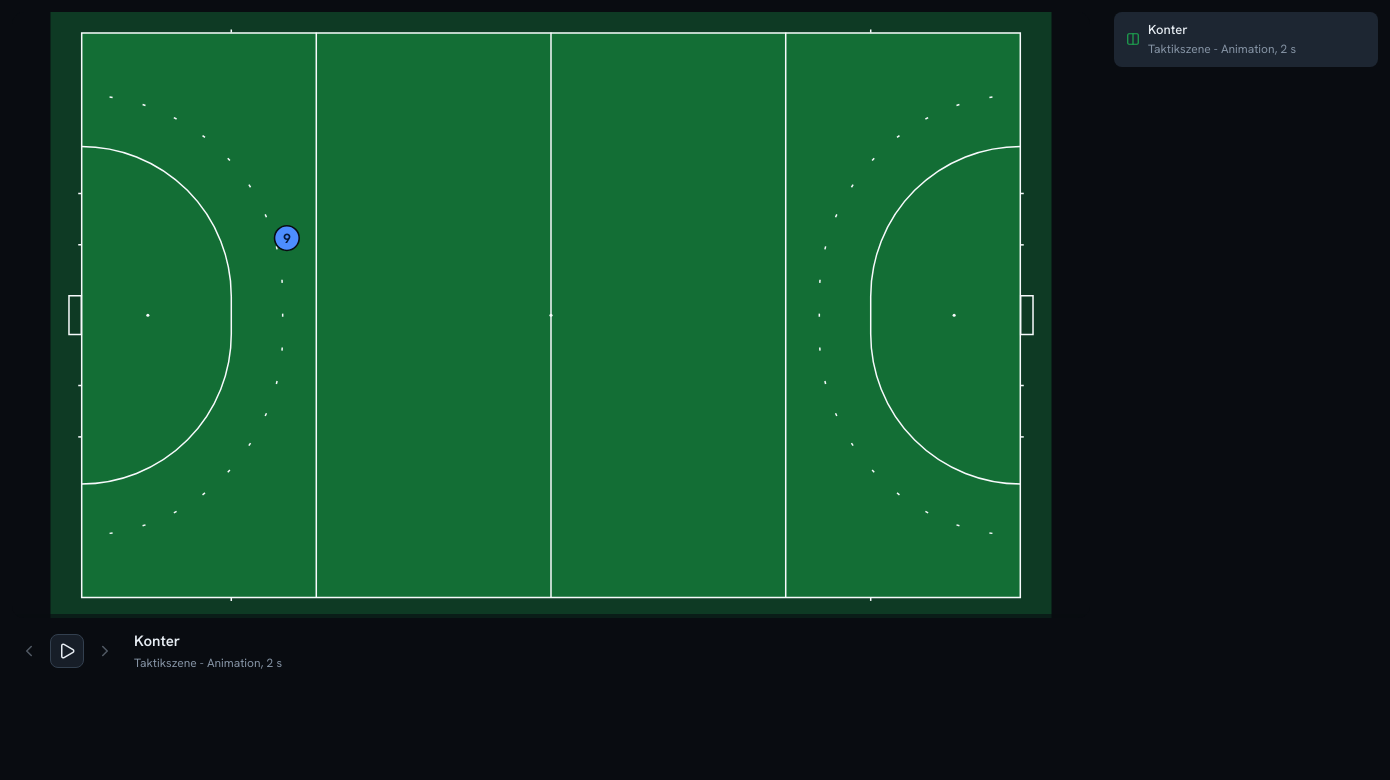
Test case: PlaylistPlayer with a scene entry › holds a still scene for its hold time
Click the button named "Abspielen" at (67, 651), box [50,634,84,668]
Wait 3500 ms
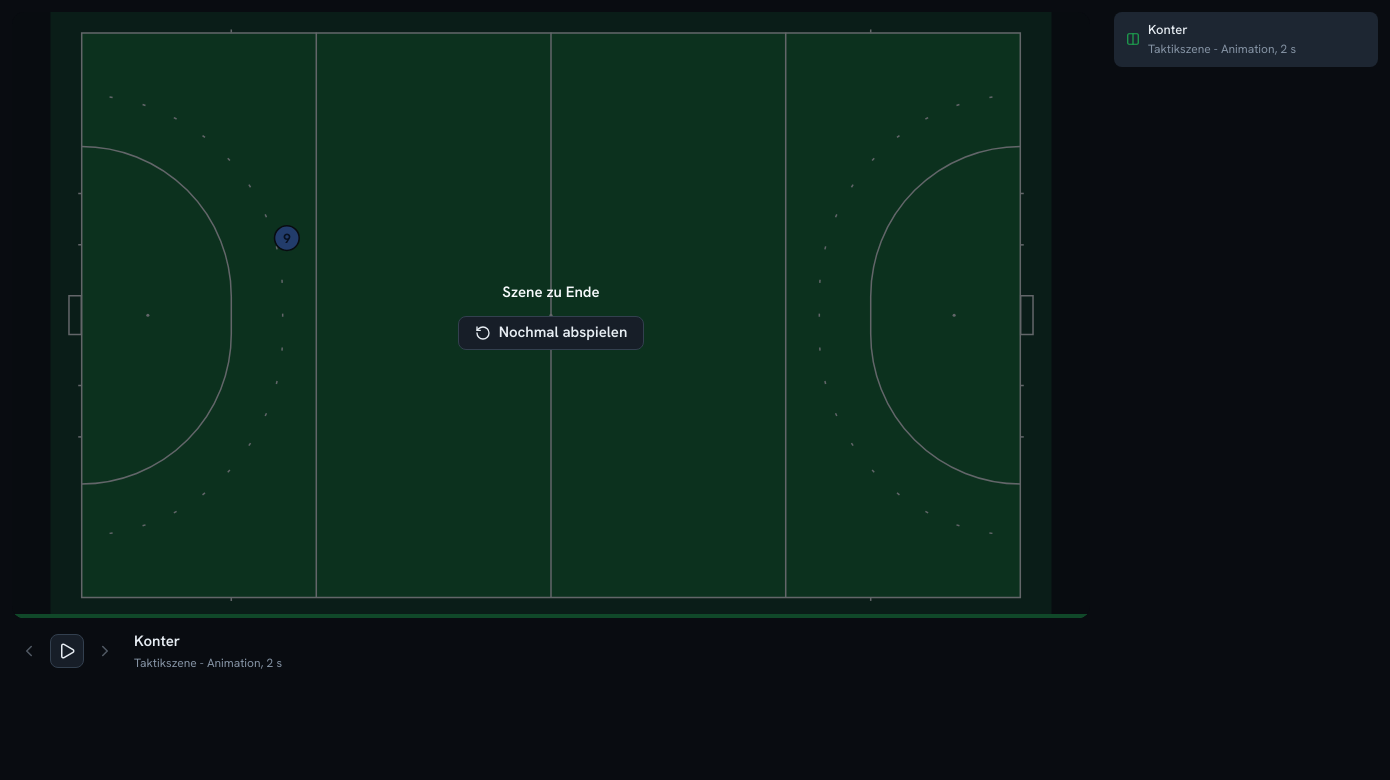
Result: the element "Szene zu Ende" is shown
